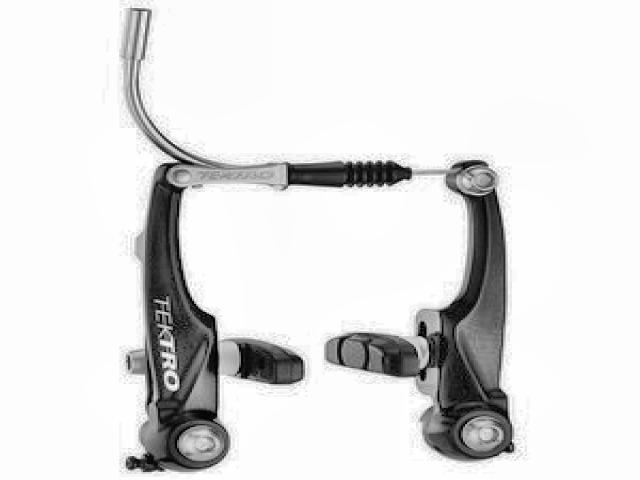rim_brake: (124, 154, 518, 461)
